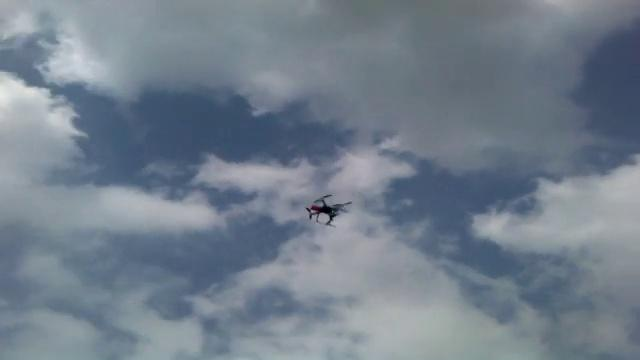drone: (302, 192, 353, 228)
